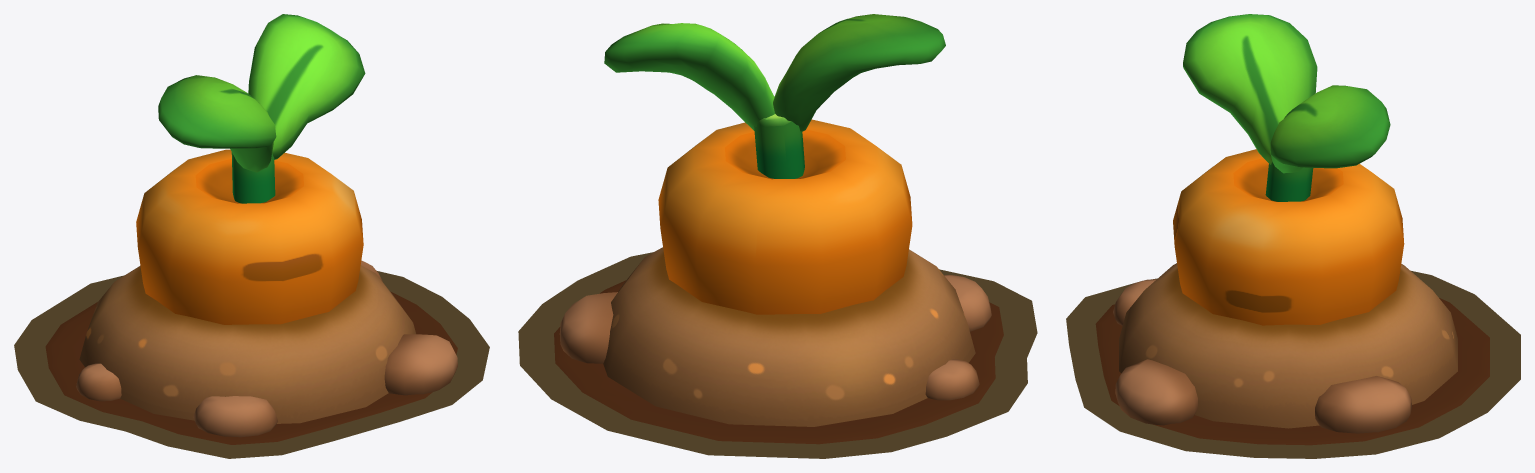
File: Carrot_L02.fbx
3 renders of one model, left to right at view 1: azimuth 30°, elevation 25°; view 2: azimuth 150°, elevation 25°; view 3: azimuth 270°, elevation 25°, orthographic. The views are drawn at different scales.
Parts seen in each view (by area): view 1: Carrot02_body, Carrot02SDW; view 2: Carrot02_body, Carrot02SDW; view 3: Carrot02_body, Carrot02SDW.
Part boxes in pixels (<box>): Carrot02_body: <box>45,14,457,444</box>; Carrot02SDW: <box>14,271,489,458</box>; Carrot02_body: <box>554,14,1003,444</box>; Carrot02SDW: <box>518,252,1037,458</box>; Carrot02_body: <box>1095,14,1489,445</box>; Carrot02SDW: <box>1066,271,1520,458</box>.
Bounding box in the file's own units: 111 × 91.92 × 104.
Materials: 2 (1 with a texture image).
